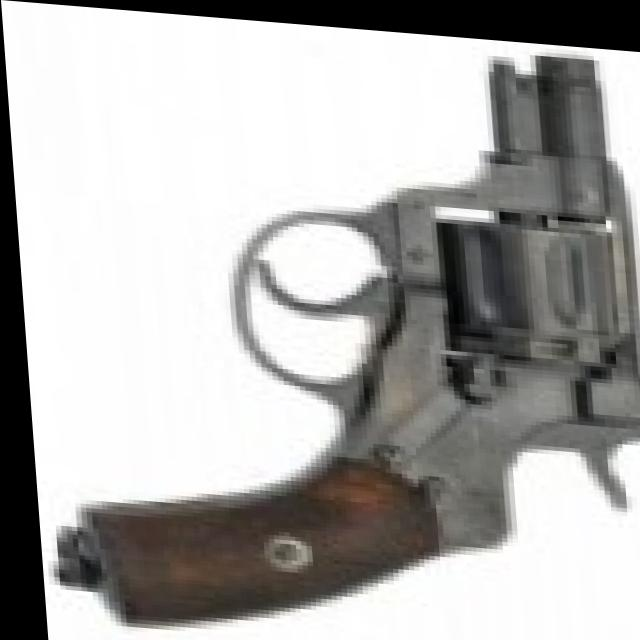handgun: (54, 19, 640, 640)
